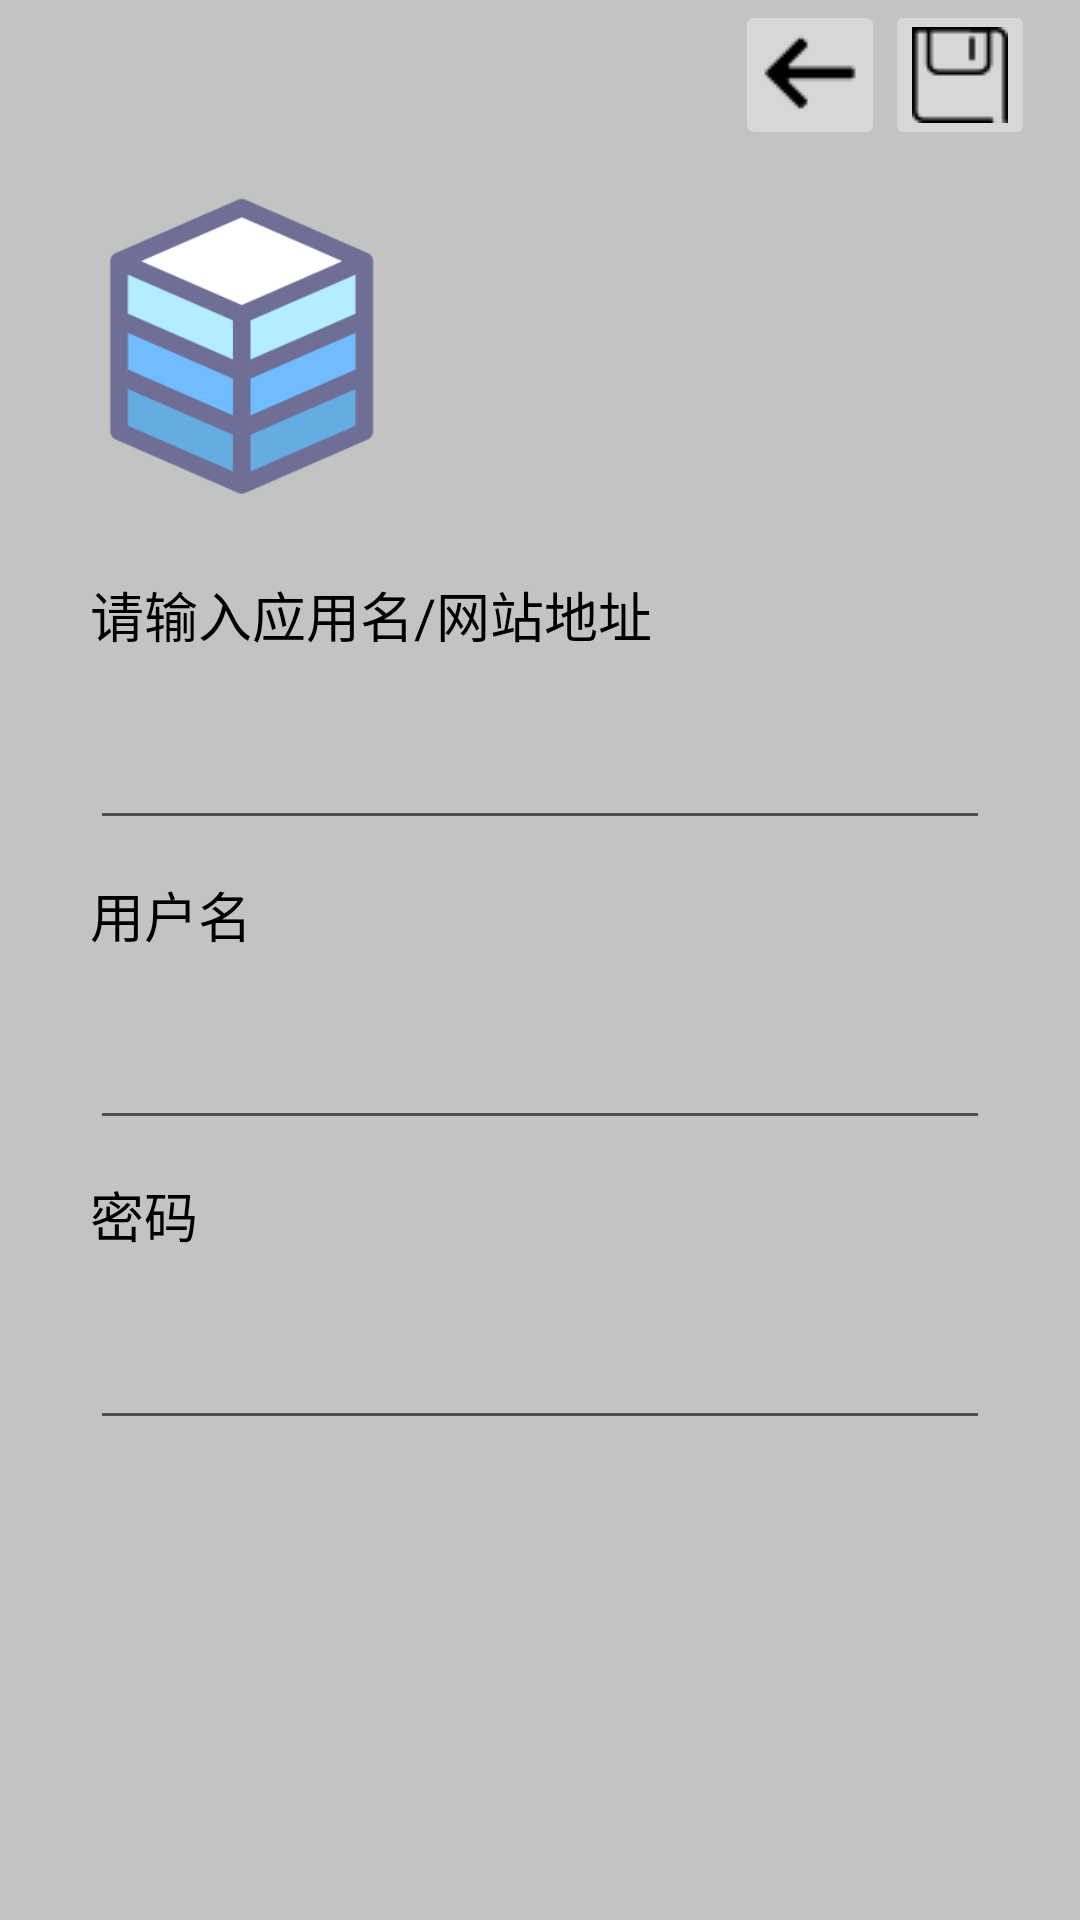

Screen size 1080px×1920px. Icon name, then its box in pixels as region(x1, y1, x2, y2):
app: region(110, 198, 374, 494)
back: region(747, 18, 873, 132)
save: region(897, 18, 1023, 132)
